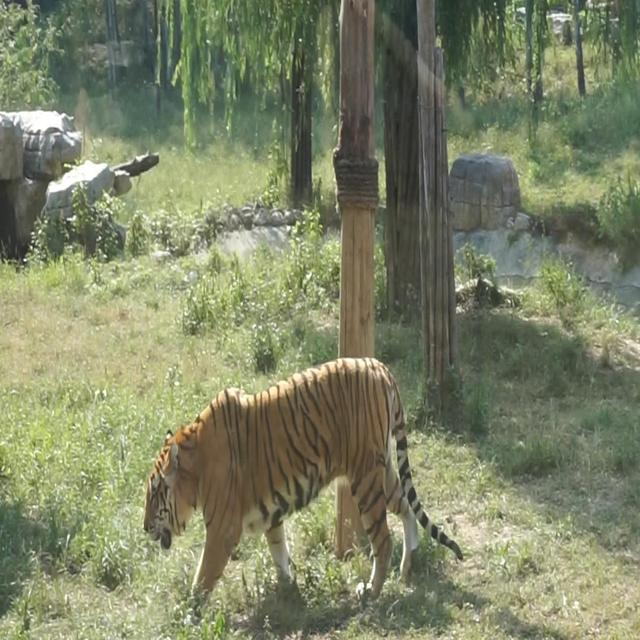tiger: (142, 355, 464, 616)
